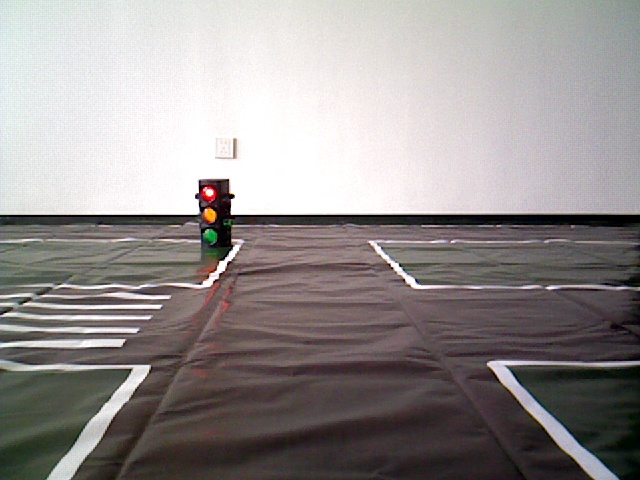red: (200, 179, 228, 247)
